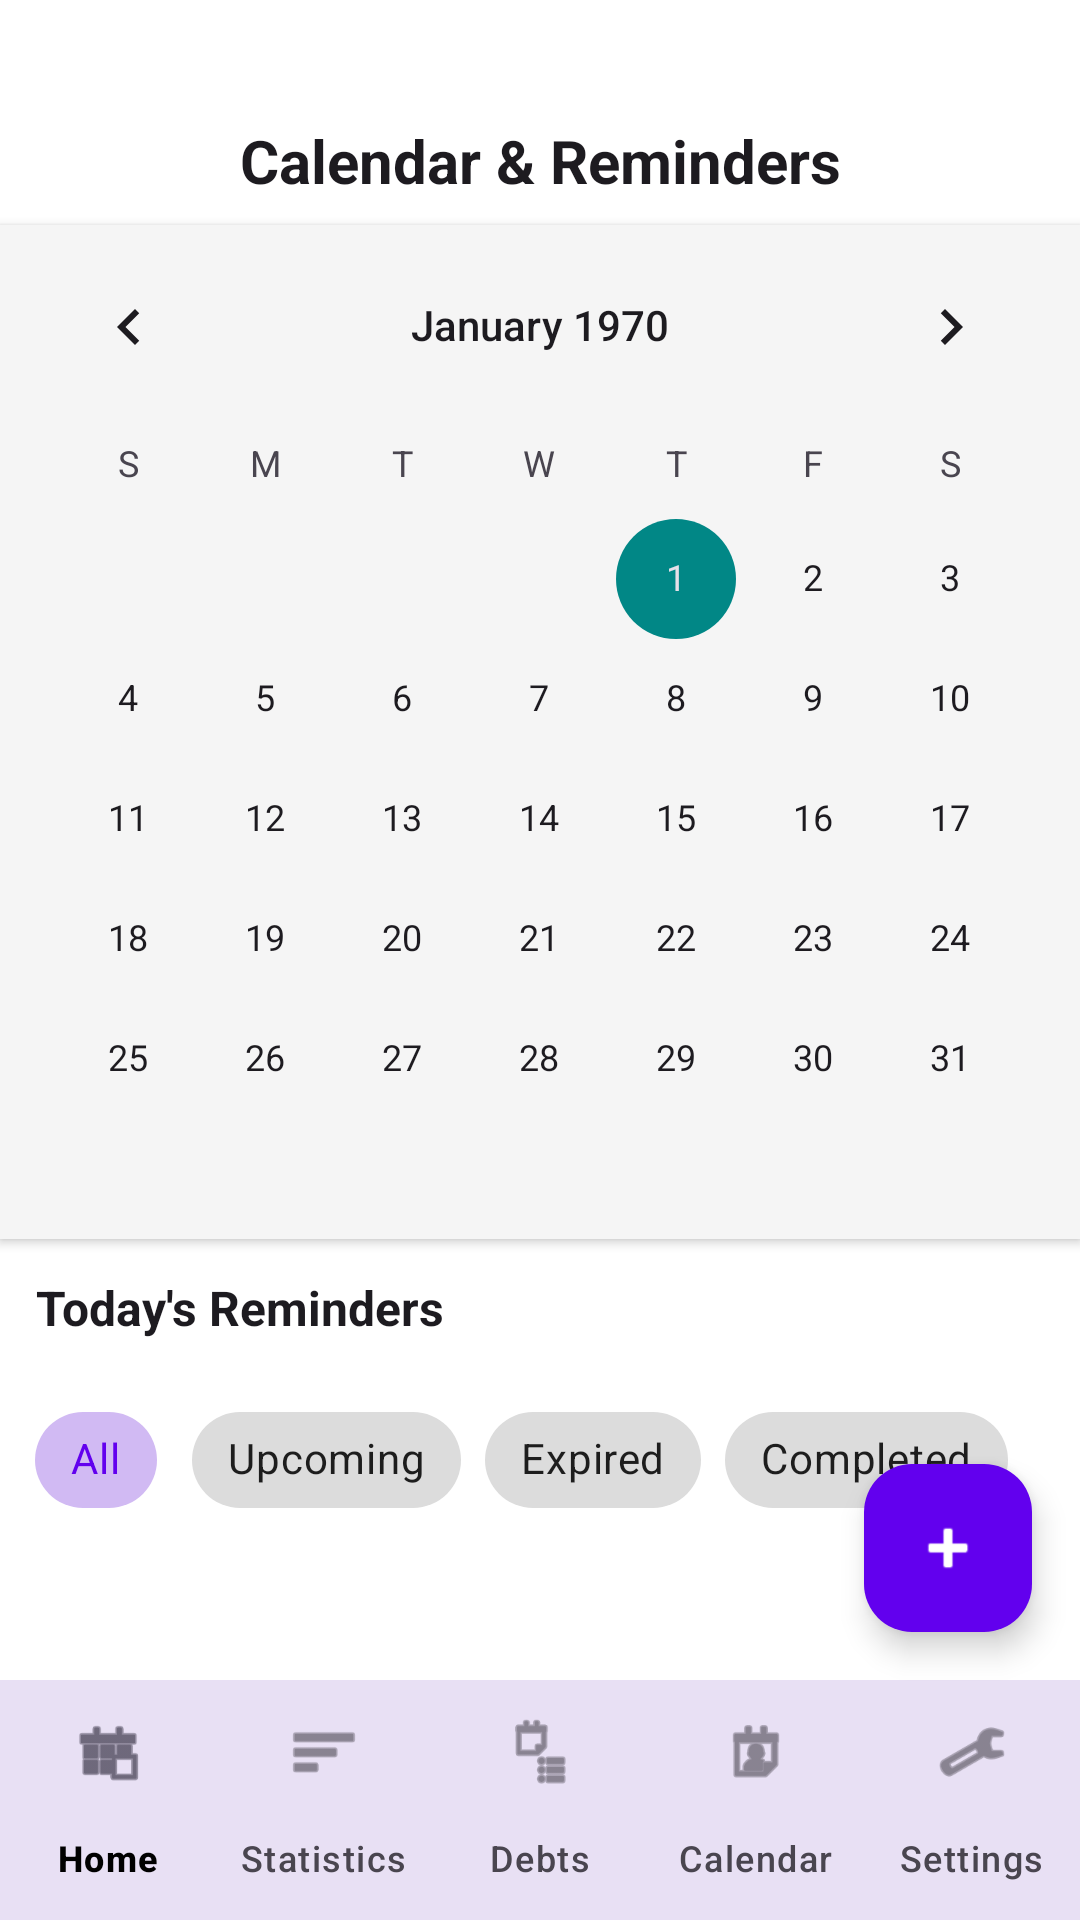

Icon click points for this 1080w x 1920h phone screenshot, format (x,y):
Add Reminder: (948,1548)
